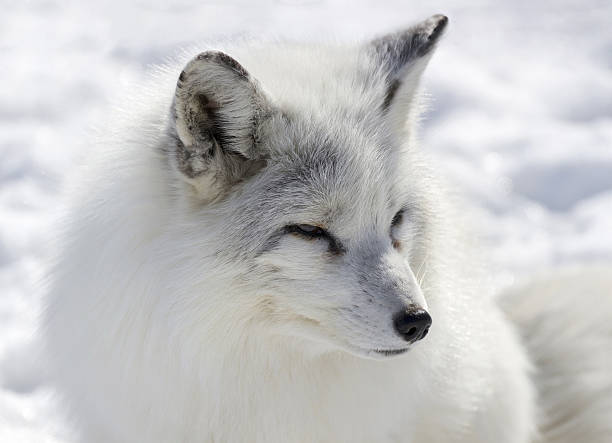arcticfox: (247, 140, 408, 363)
